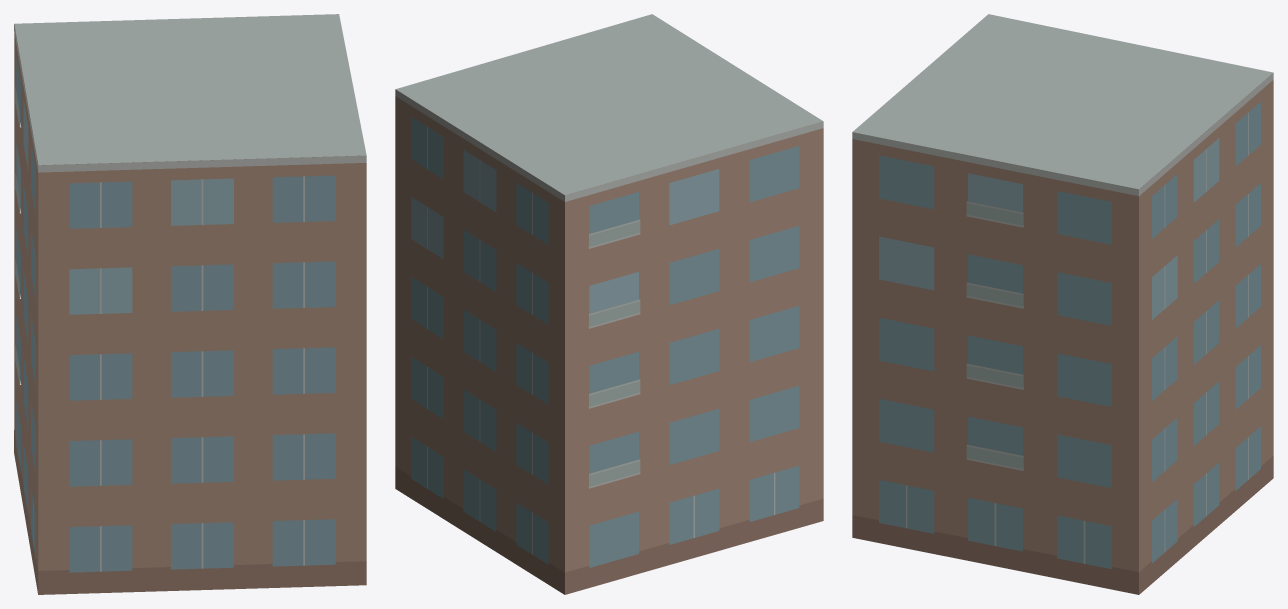
Rendered from survey-upis-32632491.glb.
3 views of the same model, side by side, from view 1: azimuth 30°, elevation 25°; view 2: azimuth 150°, elevation 25°; view 3: azimuth 270°, elevation 25° (orthographic). The views are drawn at different scales.
Parts seen in each view (by area): view 1: survey-upis-32632491.tmp; view 2: survey-upis-32632491.tmp; view 3: survey-upis-32632491.tmp.
Part boxes in pixels (x1,y1,x2,y2): survey-upis-32632491.tmp: [14, 14, 366, 594]; survey-upis-32632491.tmp: [395, 14, 823, 594]; survey-upis-32632491.tmp: [852, 14, 1273, 594].
Bounding box in the file's own units: 13.26 × 14.3 × 13.47.
